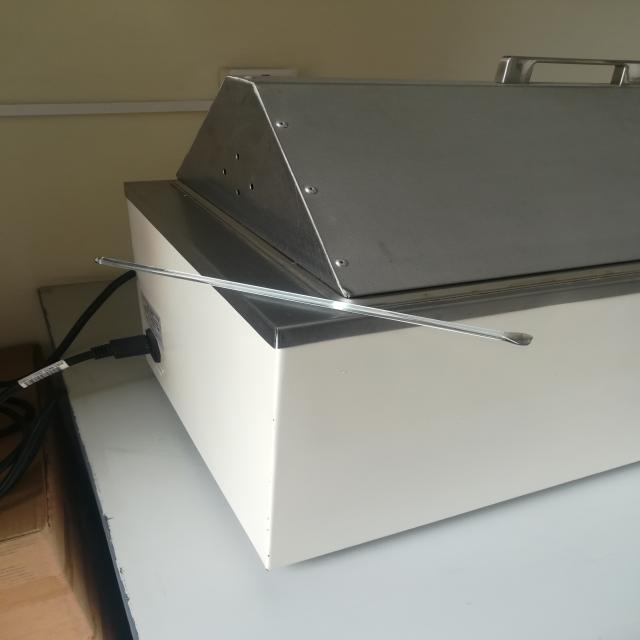Glass_Rod: (78, 226, 567, 402)
